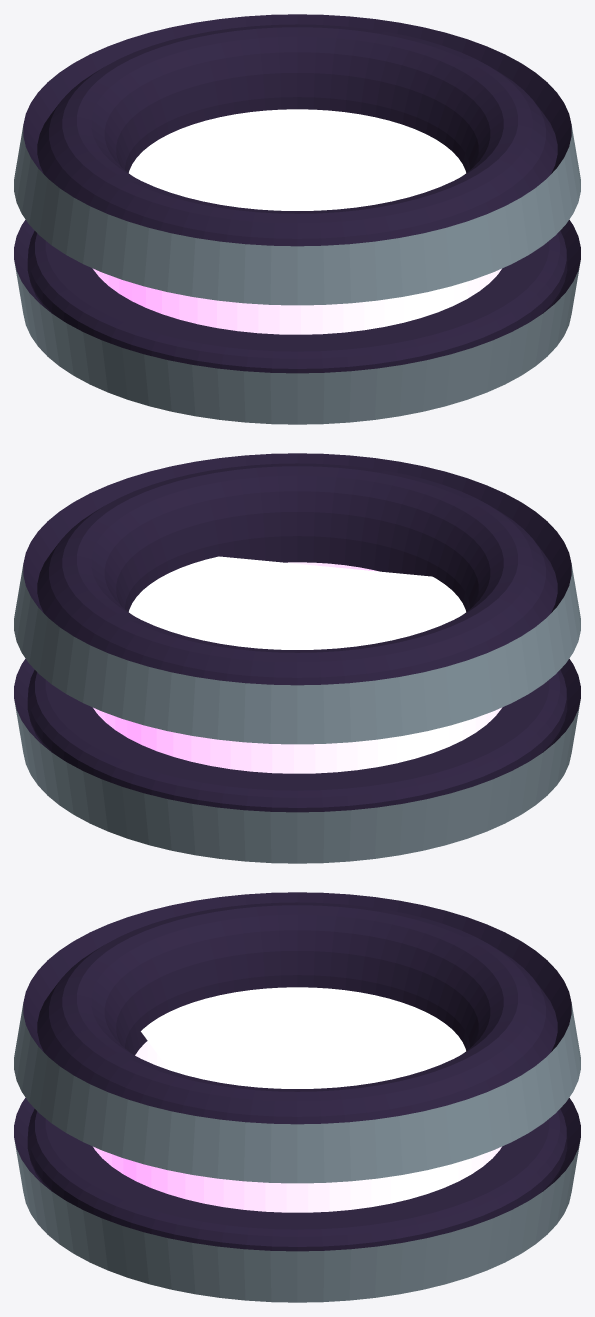
The model's file is ReverbRing.fbx.
3 views of the same model, one above another, from view 1: azimuth 30°, elevation 25°; view 2: azimuth 150°, elevation 25°; view 3: azimuth 270°, elevation 25° (orthographic).
Parts seen in each view (by area): view 1: Torus, Torus.001, Cylinder; view 2: Torus, Torus.001, Cylinder; view 3: Torus, Torus.001, Cylinder.
Boxes of the visible parts, bbox=[...] form: Torus: bbox=[14, 14, 580, 373]; Torus.001: bbox=[14, 126, 580, 424]; Cylinder: bbox=[92, 109, 501, 334]; Torus: bbox=[14, 453, 580, 812]; Torus.001: bbox=[14, 565, 580, 863]; Cylinder: bbox=[93, 556, 502, 773]; Torus: bbox=[14, 892, 580, 1251]; Torus.001: bbox=[14, 1004, 580, 1302]; Cylinder: bbox=[93, 987, 501, 1212].
Size of the model in its own units: 254 by 97.88 by 254.
